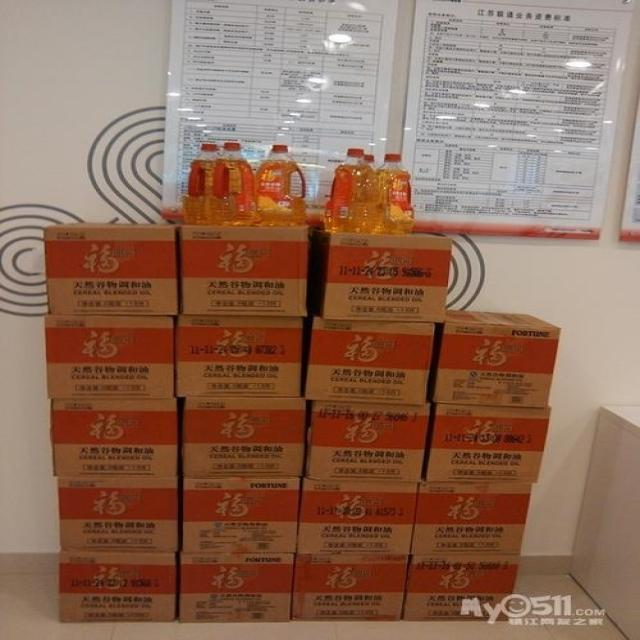box: (434, 310, 561, 408), (45, 223, 178, 315), (179, 225, 310, 317), (324, 233, 452, 323), (306, 317, 435, 405), (45, 314, 174, 399), (177, 315, 302, 398), (306, 401, 431, 482), (50, 399, 177, 478), (183, 397, 306, 478), (426, 404, 550, 484), (296, 479, 420, 555), (56, 476, 178, 553), (183, 478, 300, 554), (411, 483, 532, 555), (58, 552, 175, 623), (291, 554, 411, 622), (403, 554, 521, 622), (179, 554, 294, 623)
